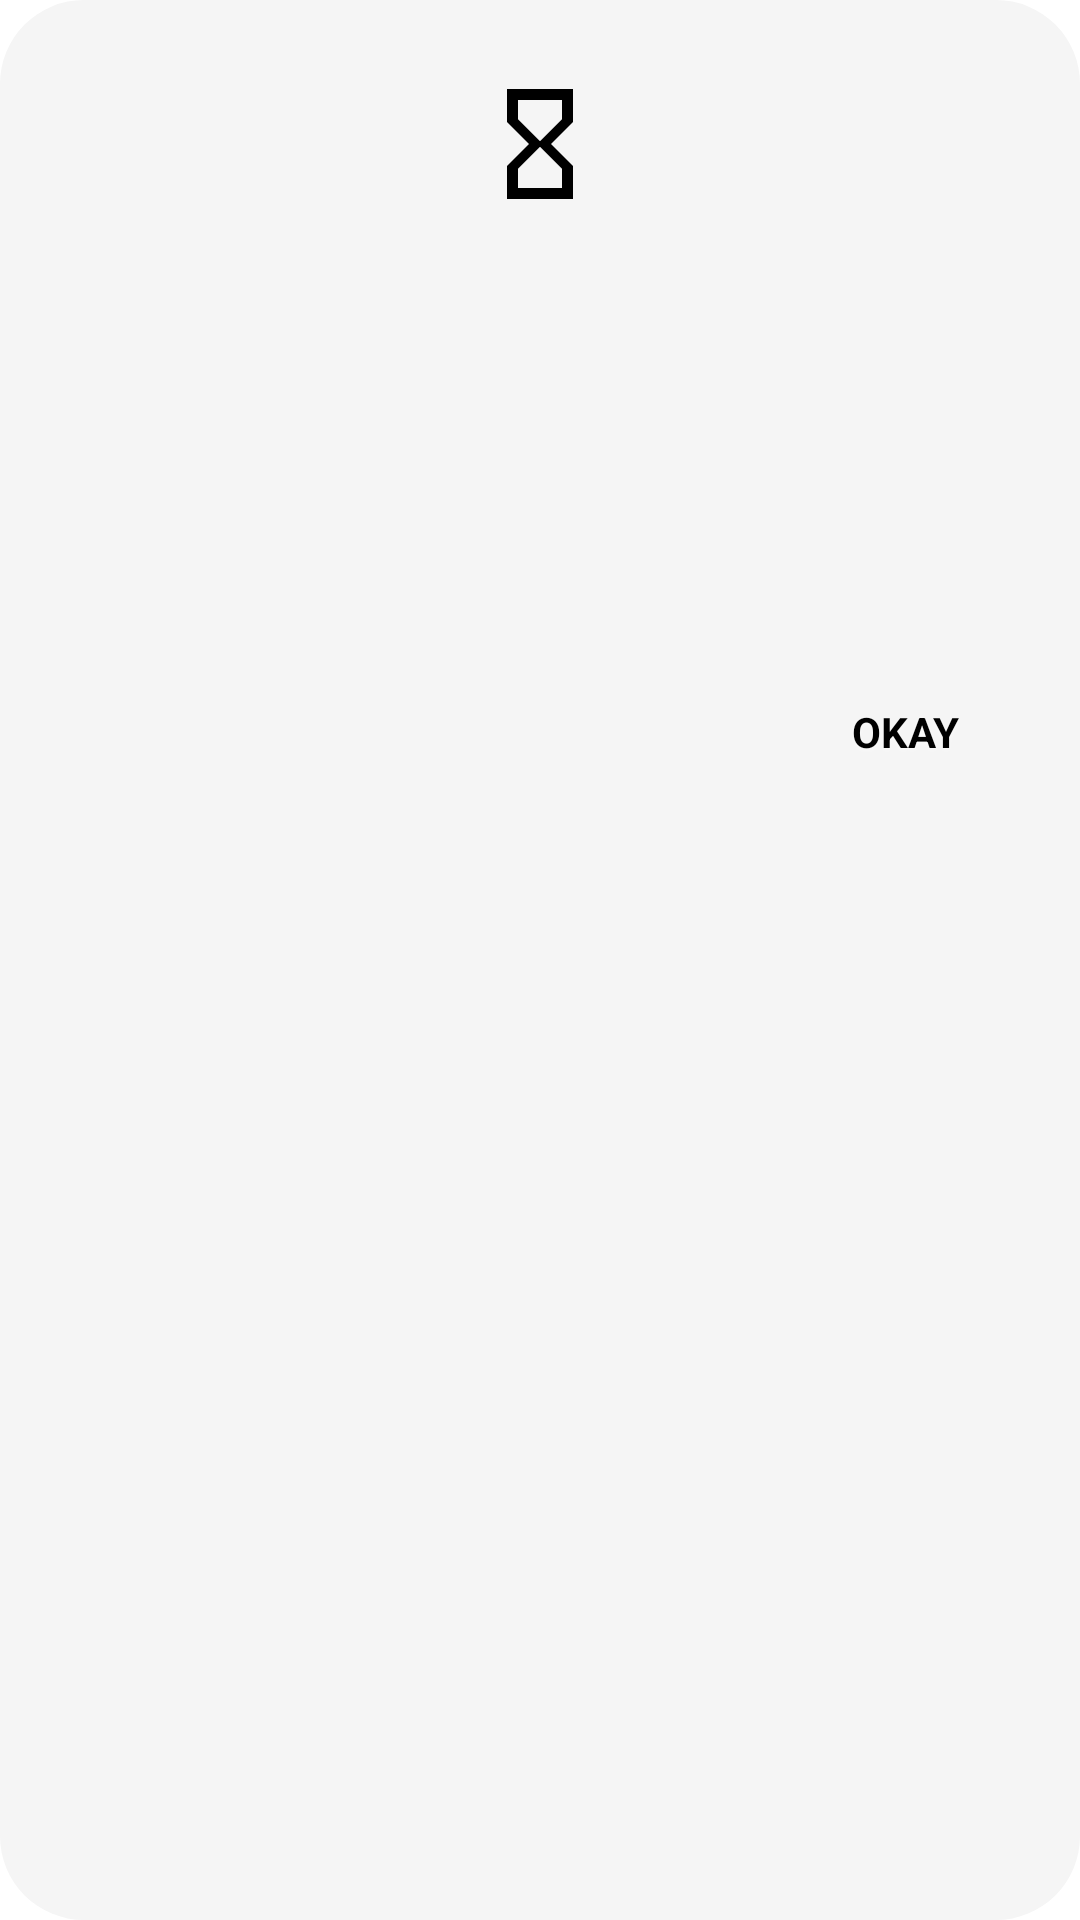

Icons on this 1080×1920 Android screen, each with the point to tap as point (x, y):
Use less (cooldown): point (540, 144)
